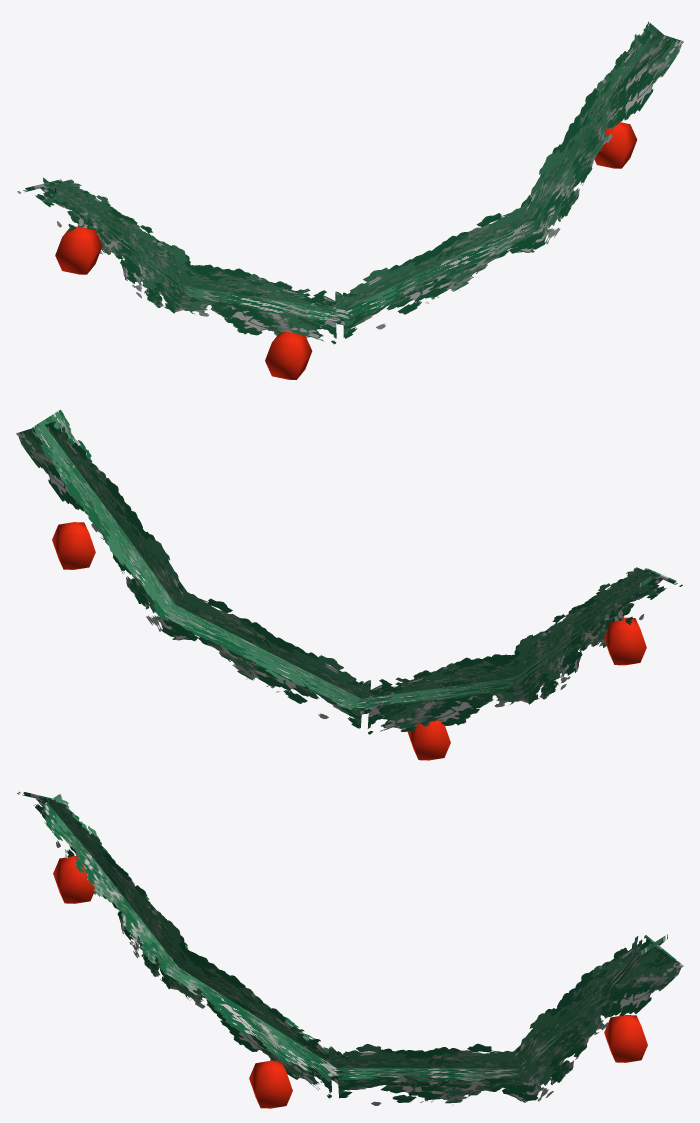
Rendered from Wreath05_Art.fbx.
The picture shows the model from 3 angles, top to bottom: view 1: azimuth 30°, elevation 25°; view 2: azimuth 150°, elevation 25°; view 3: azimuth 330°, elevation 25°; orthographic projection.
Visible parts, largest first — view 1: Wreaths05_Art; view 2: Wreaths05_Art; view 3: Wreaths05_Art.
Boxes of the visible parts, left/top/right/bottom form: Wreaths05_Art: left=17, top=21, right=683, bottom=379; Wreaths05_Art: left=16, top=410, right=682, bottom=760; Wreaths05_Art: left=17, top=792, right=683, bottom=1108.
Bounding box in the file's own units: 4.46 × 1.68 × 0.4773.
